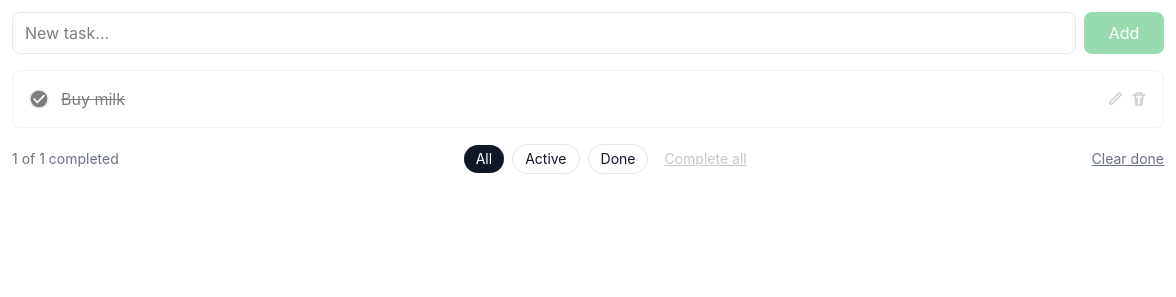
Scenario: bulk action error feedback › shows no toast when Clear done succeeds for every task
Expected: the text "Buy milk" is shown, [61,89,125,109]
What coordinates should you click on to do the following:
click the button "Clear done"
I would click on:
 (1128, 159)
Its box is [1092,149,1164,169].
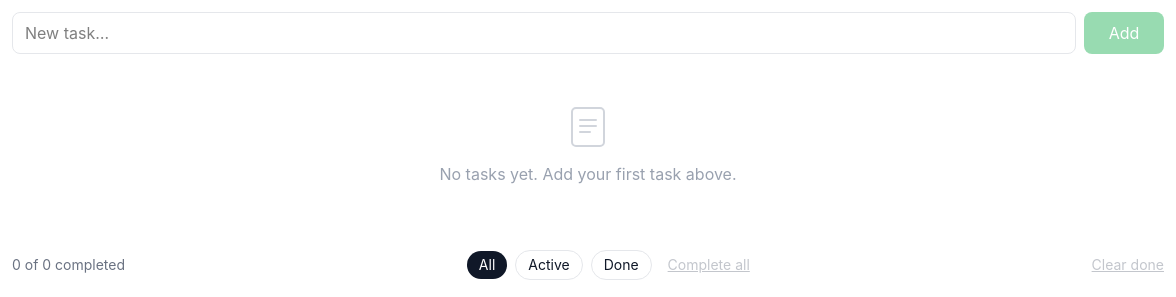
Result: the text "Buy milk" is gone
